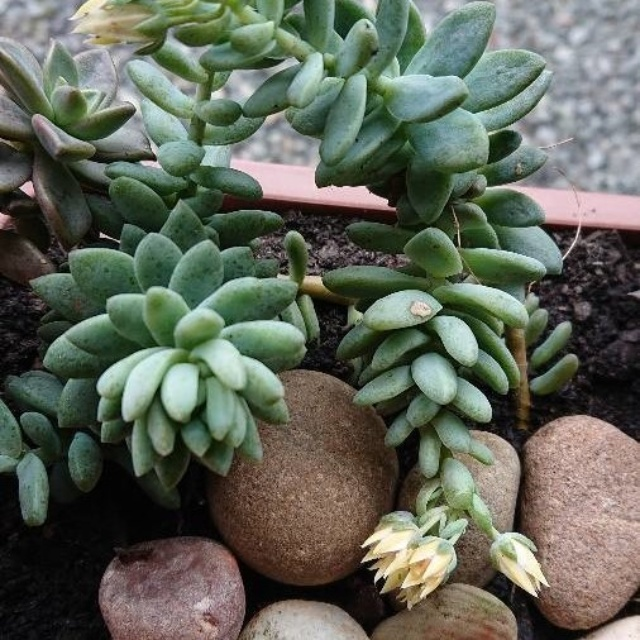obstacle: (35, 8, 624, 616), (291, 11, 564, 463), (58, 191, 282, 506), (224, 374, 382, 583), (510, 414, 634, 626), (91, 512, 250, 629)
